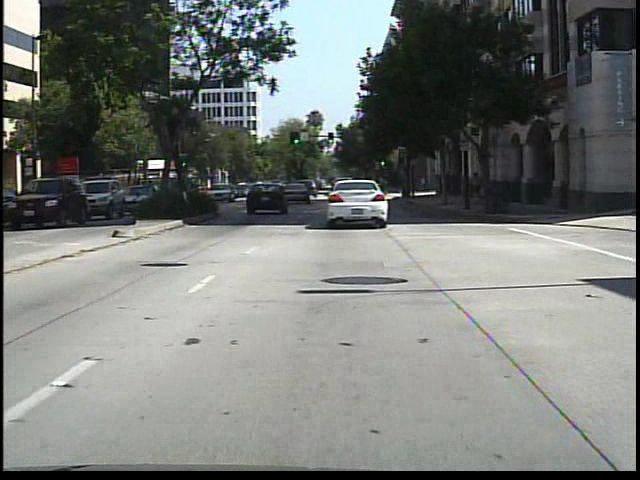person: (468, 167, 486, 210)
